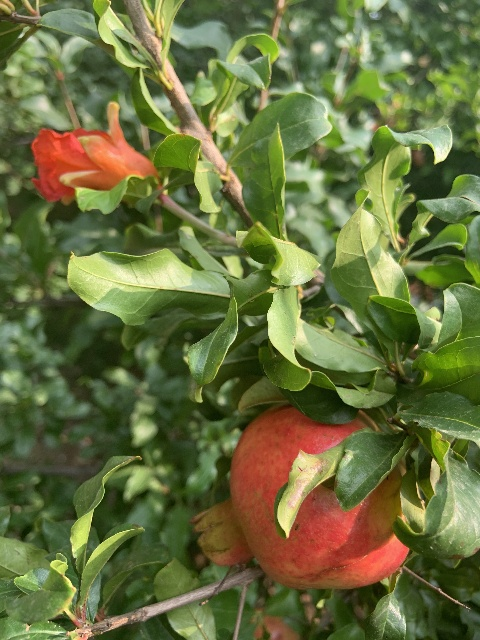flower: (28, 101, 157, 205)
ripe: (190, 404, 409, 589)
